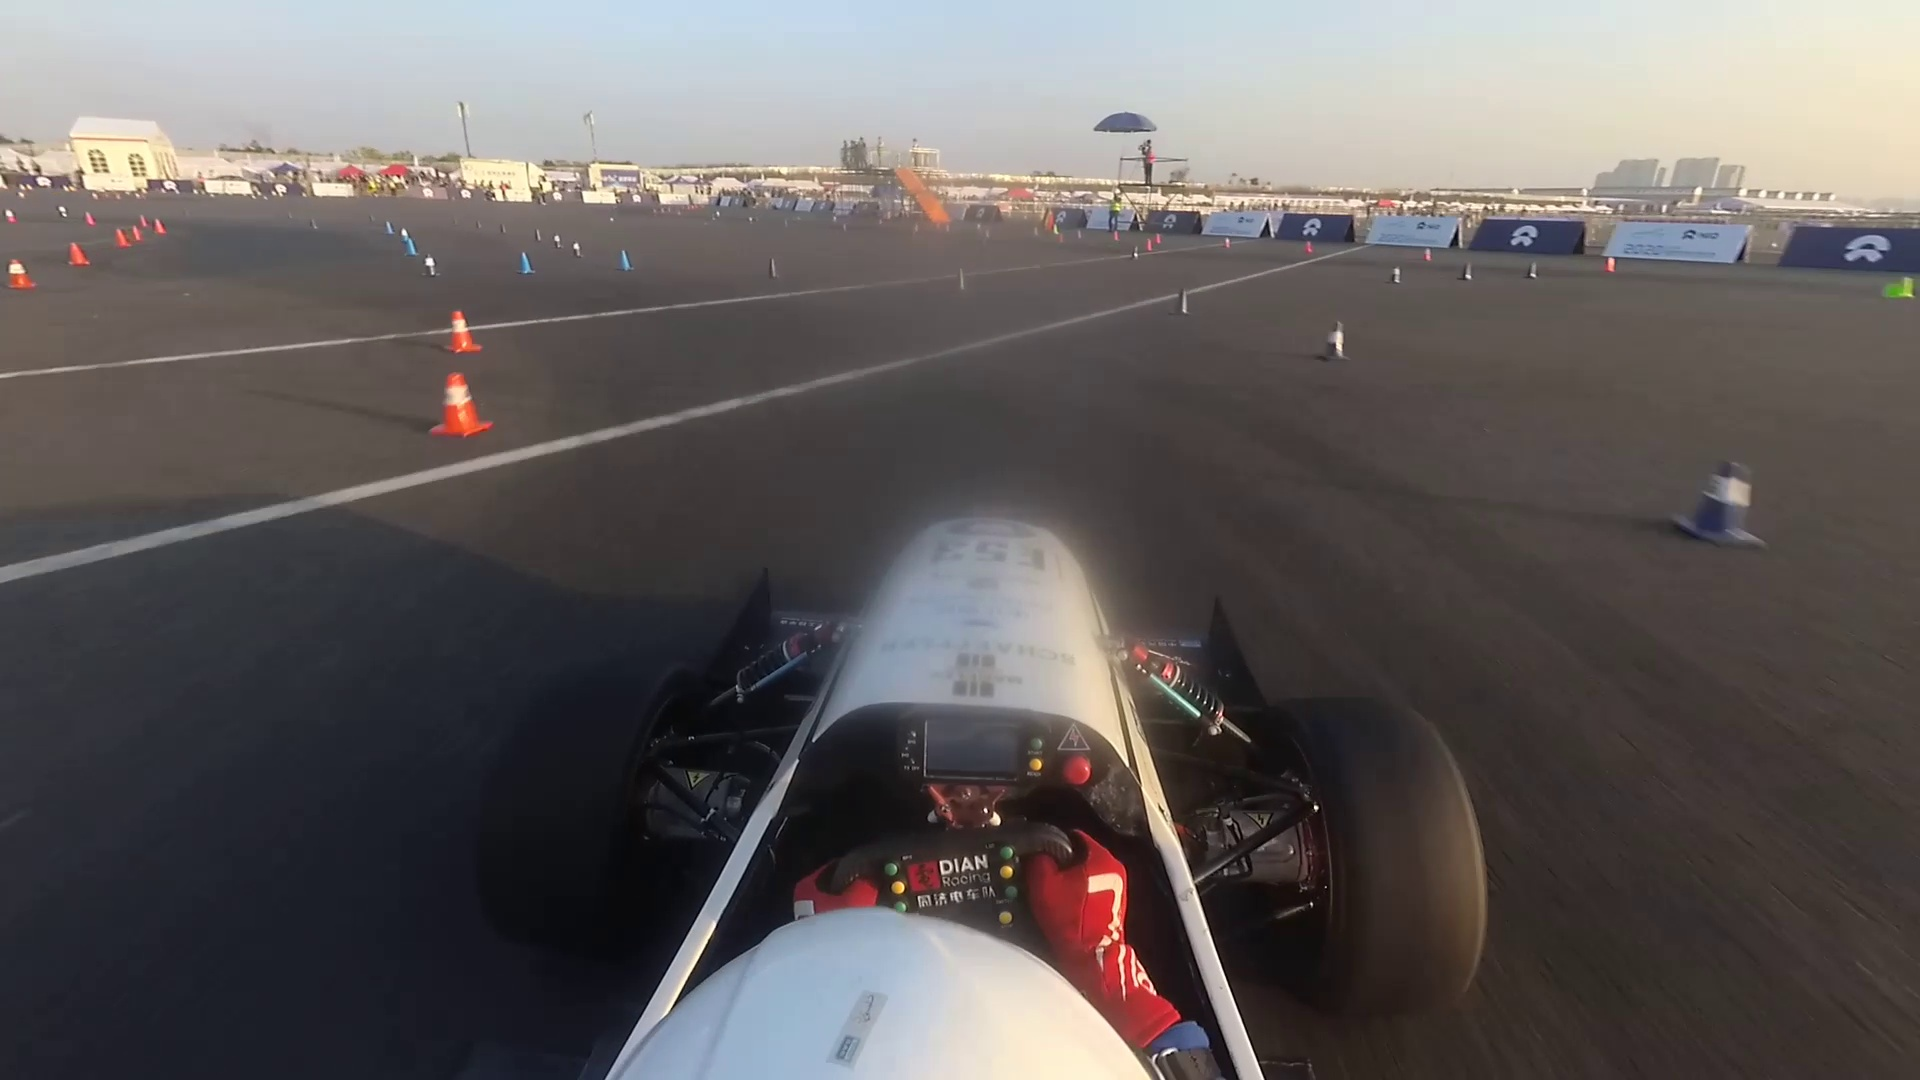blue_cone: (1685, 455, 1766, 559), (947, 269, 978, 297), (1331, 323, 1349, 368), (1172, 289, 1200, 314), (419, 251, 439, 284), (512, 252, 538, 276), (762, 257, 785, 281), (613, 248, 633, 273), (1457, 264, 1481, 284), (1391, 268, 1406, 291), (568, 237, 584, 258), (1125, 247, 1145, 258), (471, 218, 487, 232), (400, 240, 415, 255), (497, 223, 512, 237), (380, 220, 396, 233), (550, 231, 560, 249), (309, 218, 320, 233), (1526, 262, 1538, 277), (533, 225, 542, 243)
red_cone: (425, 365, 501, 442), (431, 310, 488, 356), (7, 255, 40, 290), (63, 243, 92, 268), (1596, 253, 1625, 276), (109, 229, 131, 252), (1, 206, 22, 228), (150, 218, 171, 237), (1416, 245, 1436, 261), (80, 210, 98, 225), (132, 212, 146, 228), (1303, 240, 1317, 255), (1221, 235, 1233, 252), (1153, 233, 1166, 245), (1110, 228, 1121, 243)
